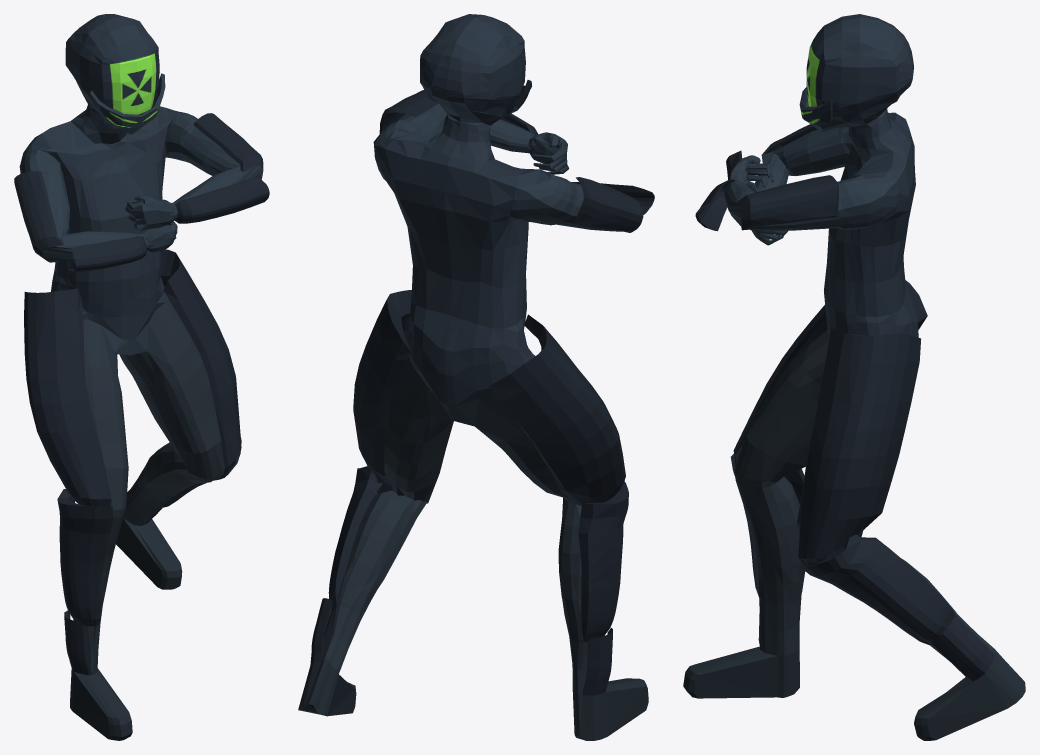
Rendered from Bastion_WF_000007.obj.
3 renders of one model, left to right at view 1: azimuth 30°, elevation 25°; view 2: azimuth 150°, elevation 25°; view 3: azimuth 270°, elevation 25°, orthographic. The views are drawn at different scales.
Visible parts, largest first — view 1: Cube.002; view 2: Cube.002; view 3: Cube.002.
Part boxes in pixels (bbox=[...]): Cube.002: bbox=[14, 14, 269, 740]; Cube.002: bbox=[298, 14, 654, 740]; Cube.002: bbox=[683, 14, 1025, 740].
Size of the model in its own units: 1.38 by 3.71 by 1.62.
